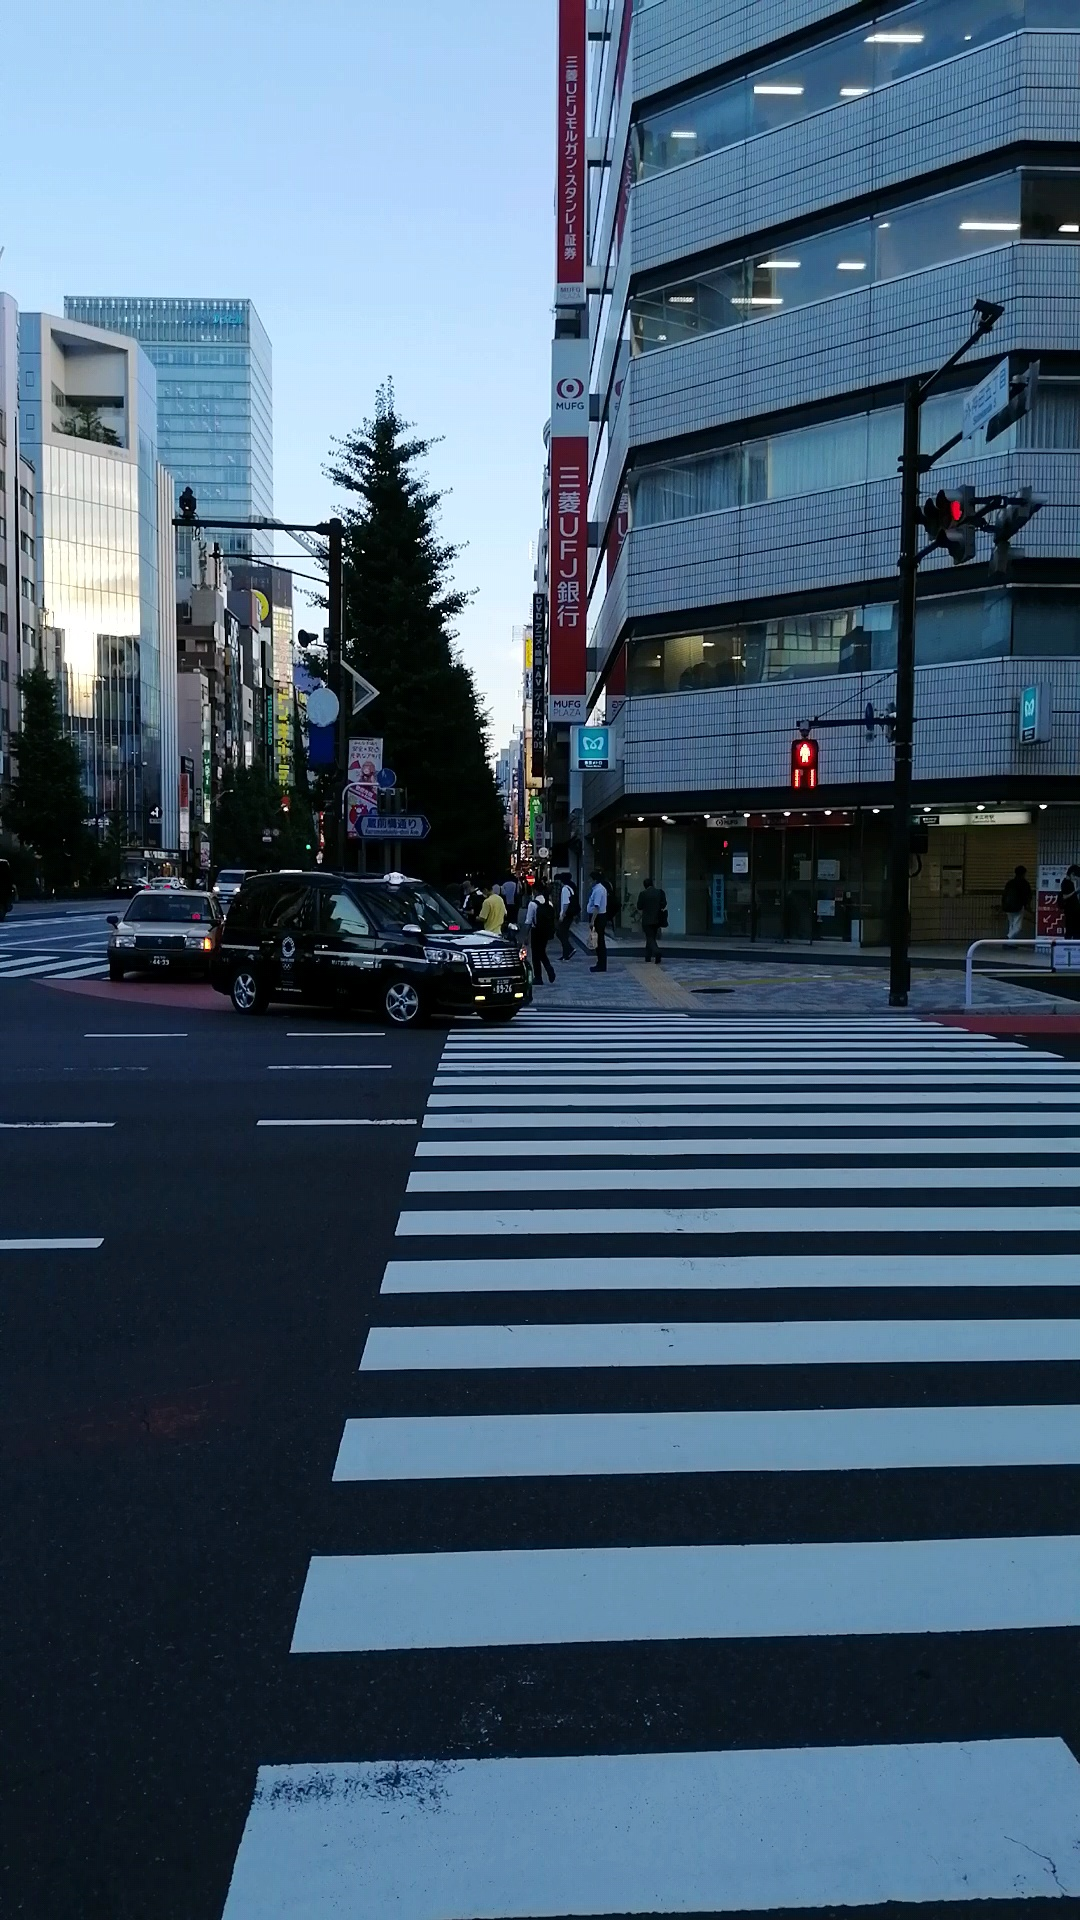red: (789, 738, 819, 796)
